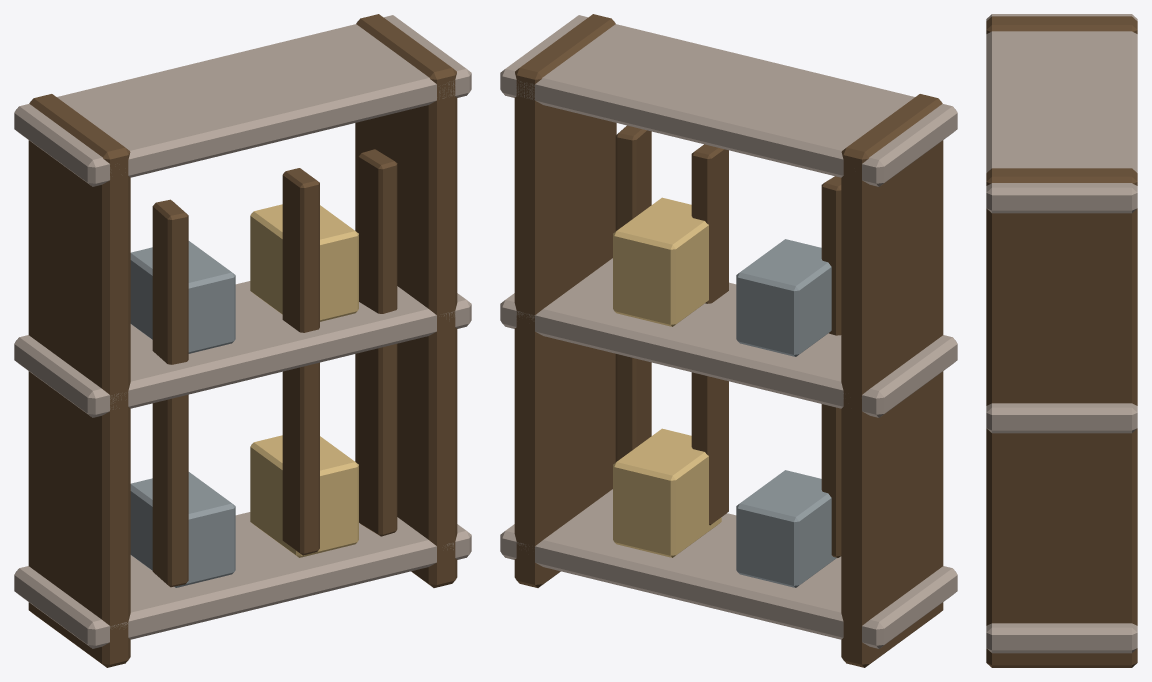
File: town_grave_tool_rack.lod1.glb
The picture shows the model from 3 angles, left to right: view 1: azimuth 30°, elevation 25°; view 2: azimuth 150°, elevation 25°; view 3: azimuth 270°, elevation 25°; orthographic projection. The views are drawn at different scales.
Bounding box in the file's own units: 1.34 × 1.72 × 0.48.
